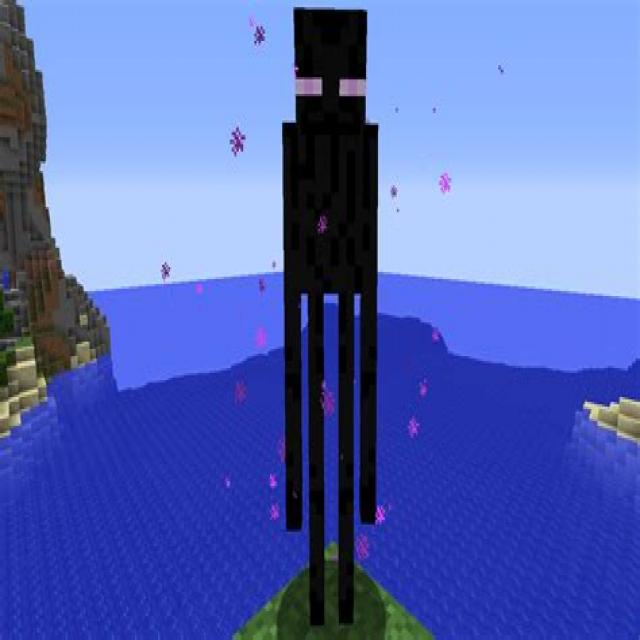Enderman: (280, 5, 384, 640)
